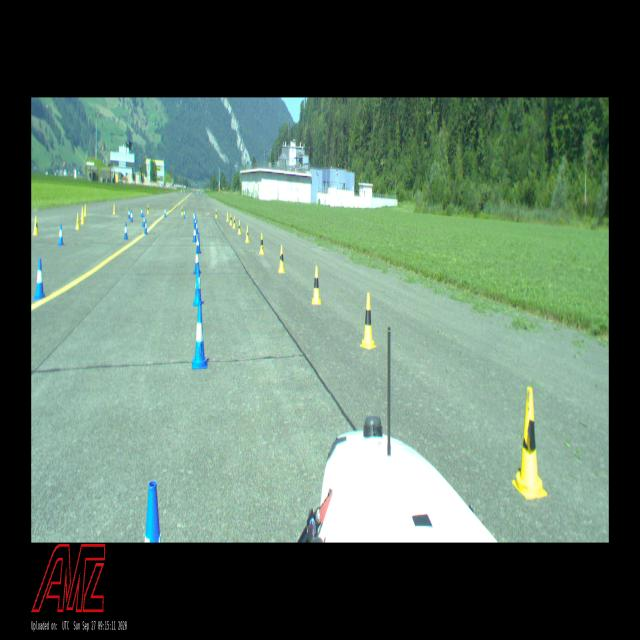blue_cone: (144, 481, 161, 542), (192, 304, 208, 368), (33, 258, 45, 299), (193, 265, 203, 306), (193, 245, 200, 274), (58, 224, 64, 245), (196, 232, 201, 254), (192, 223, 196, 242), (124, 223, 128, 239), (144, 220, 147, 234), (130, 210, 133, 223), (142, 214, 145, 227), (183, 208, 186, 218), (196, 220, 198, 234), (140, 207, 142, 218), (164, 207, 166, 217), (128, 208, 130, 218)
yellow_cone: (512, 387, 547, 499), (360, 293, 376, 349), (312, 266, 321, 304), (278, 245, 285, 272), (259, 232, 264, 255), (33, 216, 38, 235), (246, 225, 250, 243), (76, 213, 80, 230), (238, 220, 241, 234), (81, 210, 84, 224), (84, 204, 87, 217), (181, 206, 184, 215), (226, 212, 229, 221), (215, 209, 218, 218), (230, 213, 232, 226), (233, 216, 235, 228), (113, 204, 115, 214), (147, 205, 149, 214)
